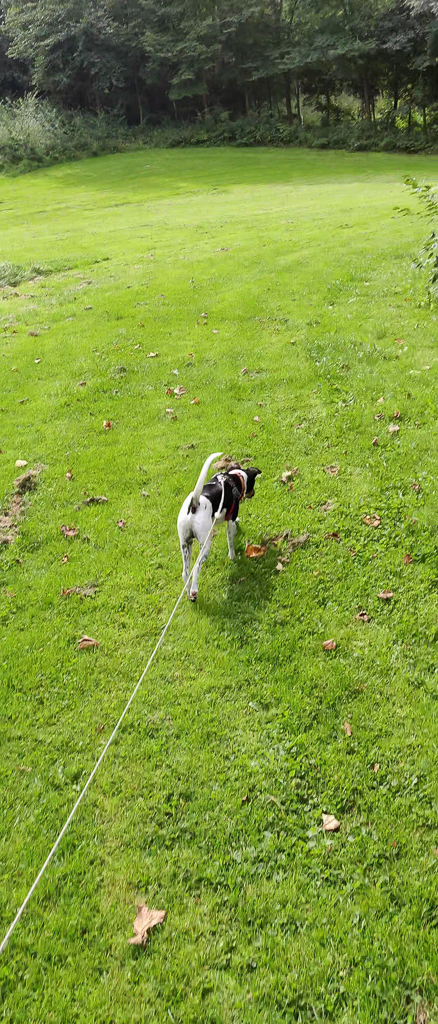Dog: (161, 444, 278, 614)
